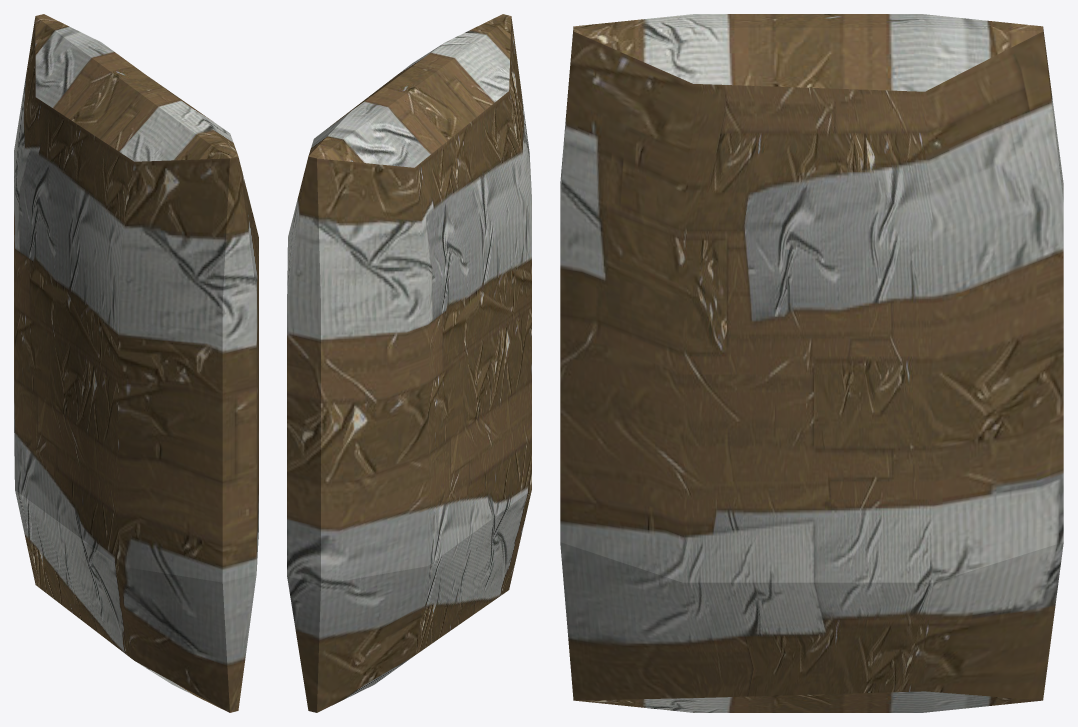
File: drugs.glb
3 views of the same model, side by side, from view 1: azimuth 30°, elevation 25°; view 2: azimuth 150°, elevation 25°; view 3: azimuth 270°, elevation 25° (orthographic). The views are drawn at different scales.
Parts seen in each view (by area): view 1: Drug_Pack_drugpackage2_0; view 2: Drug_Pack_drugpackage2_0; view 3: Drug_Pack_drugpackage2_0.
Boxes of the visible parts, <box> form: Drug_Pack_drugpackage2_0: <box>14,14,258,712</box>; Drug_Pack_drugpackage2_0: <box>287,14,531,712</box>; Drug_Pack_drugpackage2_0: <box>560,14,1063,712</box>.
Bounding box in the file's own units: 0.0382 × 0.1482 × 0.0987.
1 material, 1 textured.
